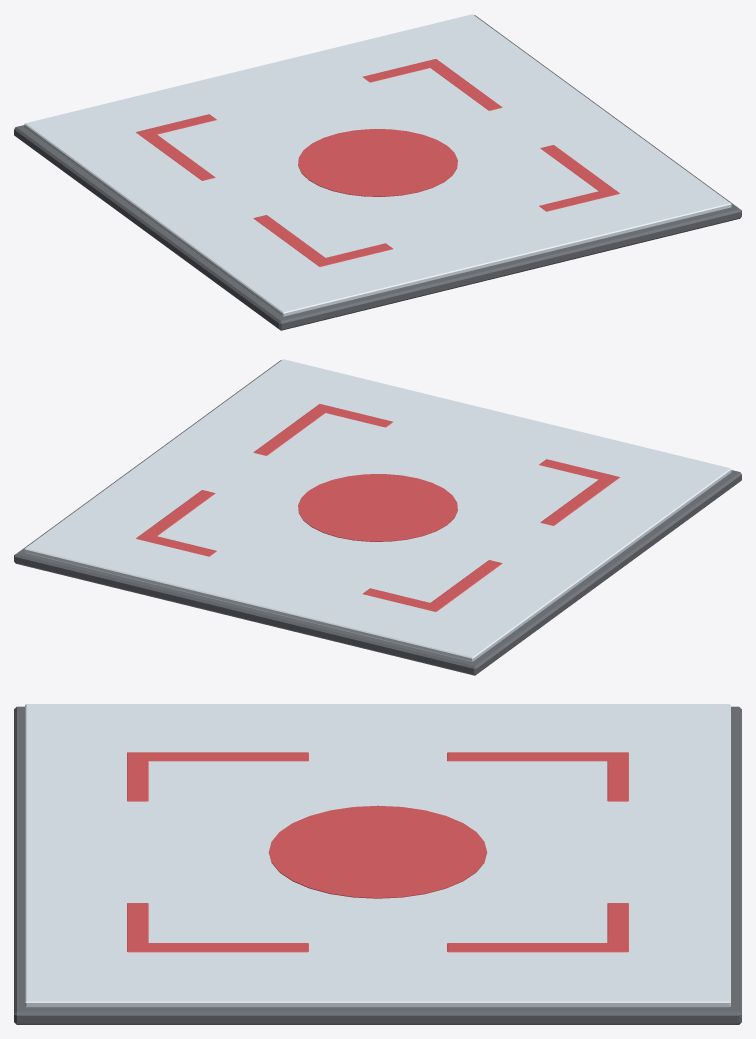
Rendered from ice-hockey-arena-and-locker-room-ice-surface-tile-face-78e57a19__33692.glb.
3 views of the same model, one above another, from view 1: azimuth 30°, elevation 25°; view 2: azimuth 150°, elevation 25°; view 3: azimuth 270°, elevation 25° (orthographic). The views are drawn at different scales.
Parts seen in each view (by area): view 1: ice-surface-tile-face-off-dot; view 2: ice-surface-tile-face-off-dot; view 3: ice-surface-tile-face-off-dot.
Part boxes in pixels (bbox=[...]): ice-surface-tile-face-off-dot: bbox=[14, 14, 741, 330]; ice-surface-tile-face-off-dot: bbox=[14, 359, 741, 675]; ice-surface-tile-face-off-dot: bbox=[14, 704, 741, 1024].
Bounding box in the file's own units: 2 × 0.062 × 2.
